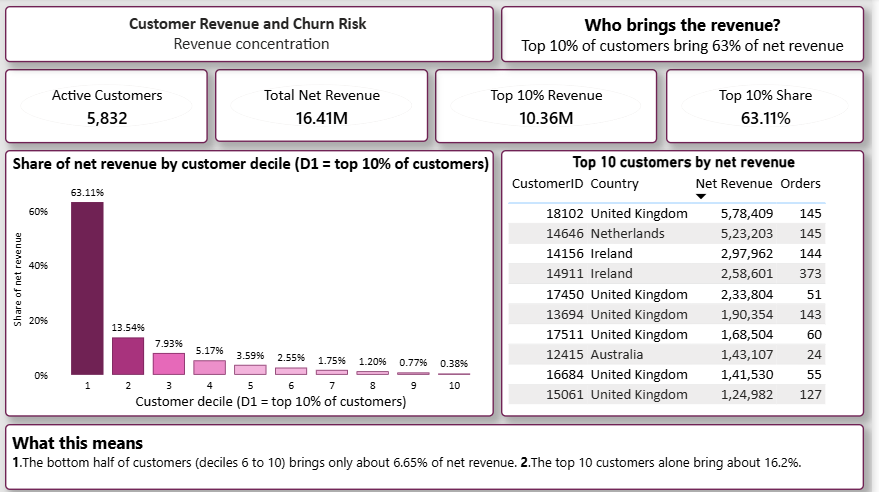

Layout of this report page (visuals, bound fields, positions):
{"tool":"powerbi","page":{"name":"Revenue concentration","canvas":[1280,720],"ordinal":0},"visuals":[{"type":"cardVisual","fields":{"Data":["dashboard_customers.Active Customers text"]},"box":[30.2,102.2,292.3,106.6],"z":0},{"type":"cardVisual","fields":{"Data":["dashboard_customers.Top 10% Revenue"]},"box":[649.4,102.2,319.7,106.6],"z":1000},{"type":"cardVisual","fields":{"Data":["dashboard_customers.Top 10% Share"]},"box":[982.1,102.2,285.1,106.6],"z":2000},{"type":"cardVisual","fields":{"Data":["dashboard_customers.Total Net Revenue"]},"box":[332.6,102.2,306.7,105.1],"z":3000},{"type":"clusteredColumnChart","title":"Share of net revenue by customer decile (D1 = top 10% of customers)","fields":{"Category":["dashboard_customers.decile"],"Y":["dashboard_customers.Revenue Share %"]},"box":[30.2,218.9,704.2,384.5],"z":4000},{"type":"tableEx","title":"Top 10 customers by net revenue","fields":{"Values":["dashboard_customers.CustomerID","dashboard_customers.Country","Sum(dashboard_customers.monetary)","Sum(dashboard_customers.frequency)"]},"box":[744.5,218.9,522.7,384.5],"z":5000},{"type":"textbox","box":[744.5,11.5,522.7,80.6],"z":6000},{"type":"textbox","box":[30.2,11.5,704.2,80.6],"z":7000},{"type":"textbox","box":[30.2,613.4,1237,95],"z":8000}]}

Visuals, with their boxes in screenshot pixels (x1, y1, x2, y2), scaled from the page's 1280x720 canvas onto the 879x492 screenshot:
cardVisual - dashboard_customers.Active Customers text: <box>21,70,221,143</box>
cardVisual - dashboard_customers.Top 10% Revenue: <box>446,70,665,143</box>
cardVisual - dashboard_customers.Top 10% Share: <box>674,70,870,143</box>
cardVisual - dashboard_customers.Total Net Revenue: <box>228,70,439,142</box>
"Share of net revenue by customer decile (D1 = top 10% of customers)" clusteredColumnChart: <box>21,150,504,412</box>
"Top 10 customers by net revenue" tableEx: <box>511,150,870,412</box>
textbox: <box>511,8,870,63</box>
textbox: <box>21,8,504,63</box>
textbox: <box>21,419,870,484</box>
